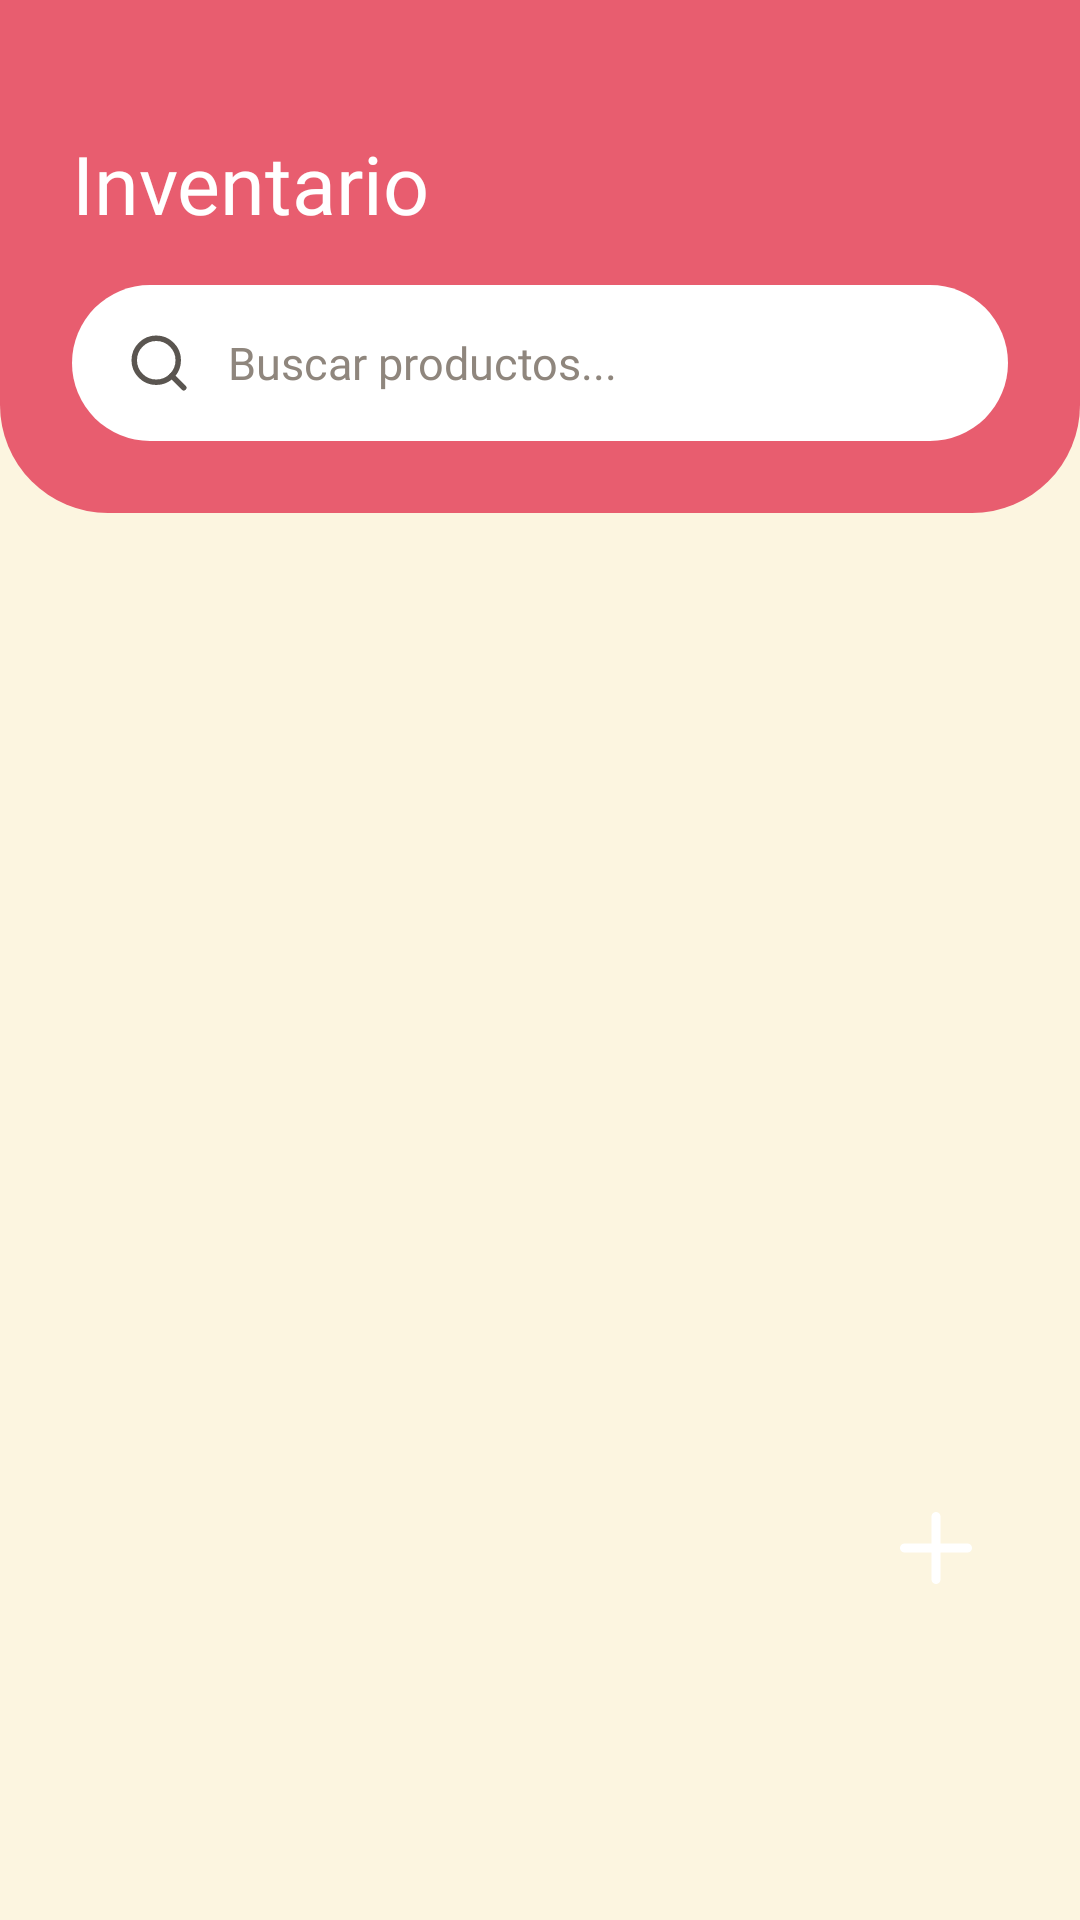

Locate icon controls on the screen. Image size 1080 × 1920, boxes as (x1, y1, x2, y2).
Agregar producto: (900, 1512, 972, 1584)
search: (131, 335, 187, 391)
